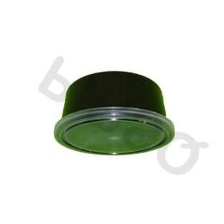plastic_box: (47, 65, 180, 162)
